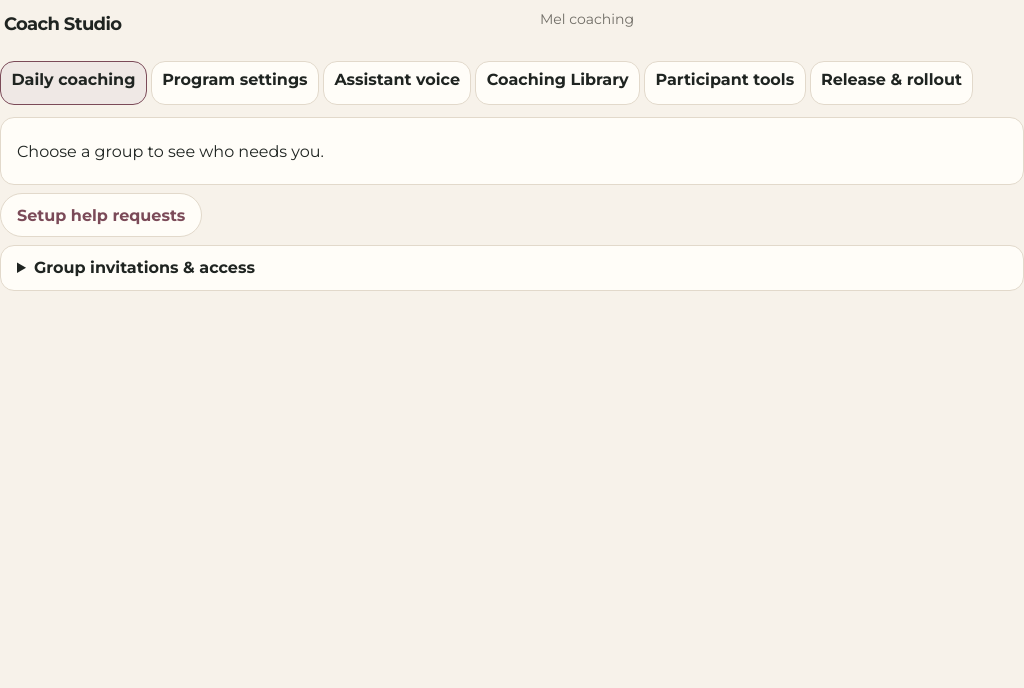
Test: coach daily operation and assistant workflow › loads assistant details on first voice visit and reuses them after a clean tab transition
The width and height of the screenshot is (1024, 688).
Click the tab "Assistant voice".
click(397, 83)  # box [323,61,471,105]
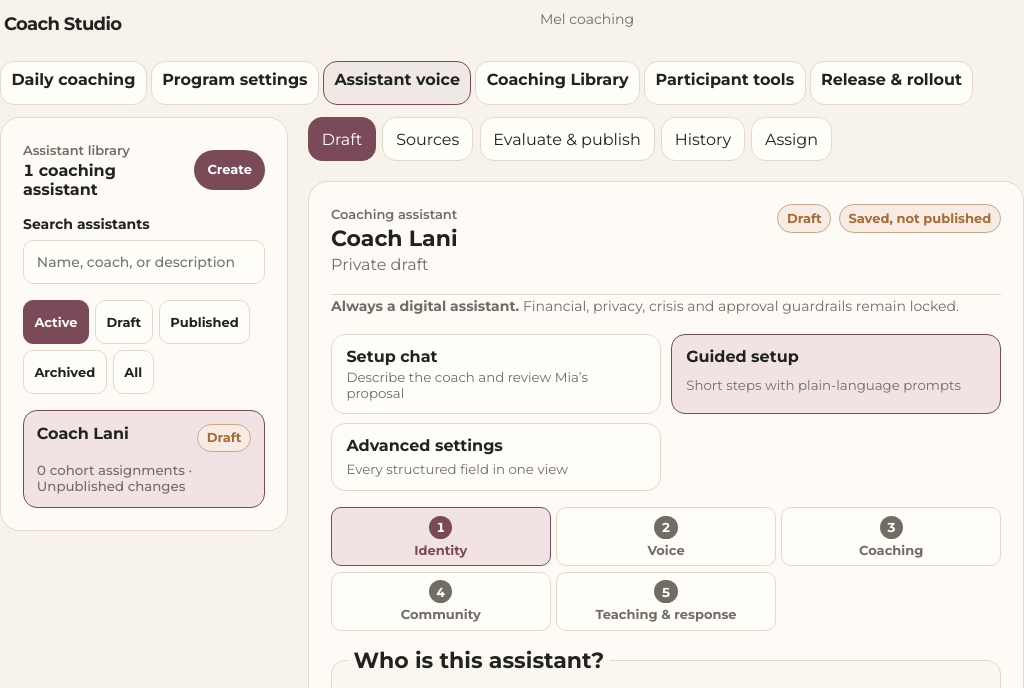
Click the tab "Daily coaching".
click(73, 83)  # box [0,61,147,105]
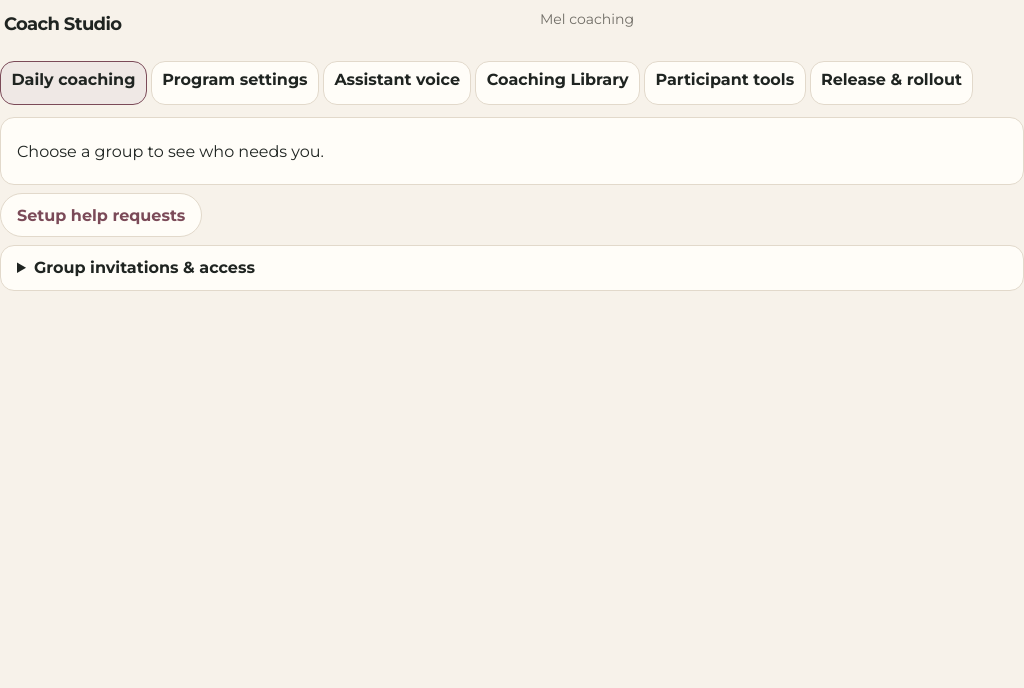
Click the tab "Assistant voice".
click(397, 83)  # box [323,61,471,105]
(page scrolled)
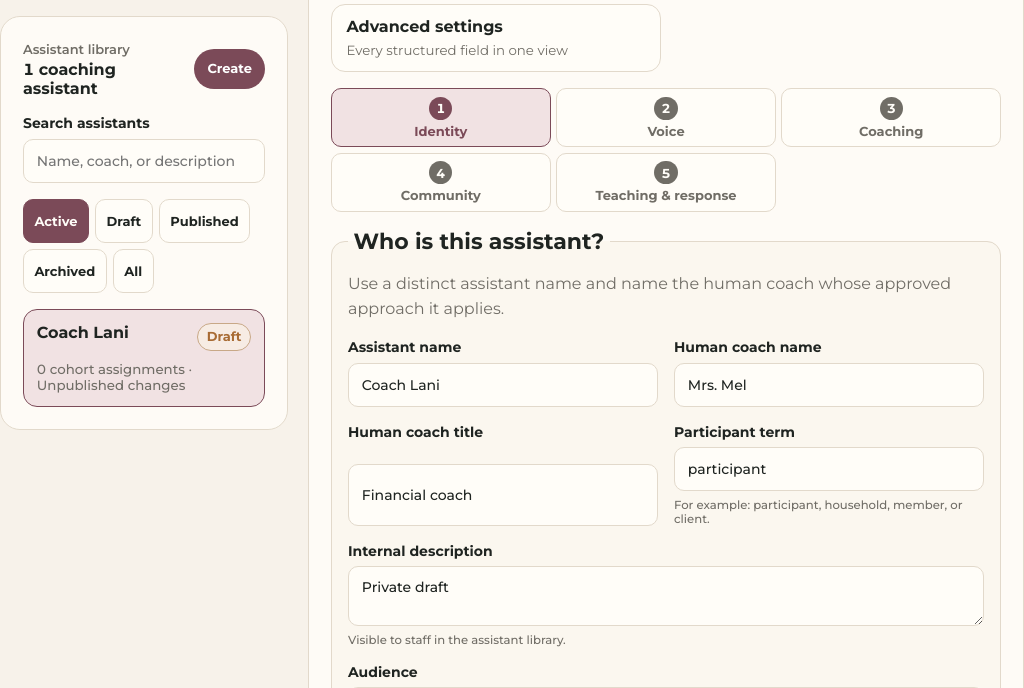
Result: the field labelled "Assistant name" is shown at [348,363,658,407]
